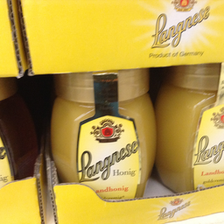honey: (48, 69, 159, 207)
